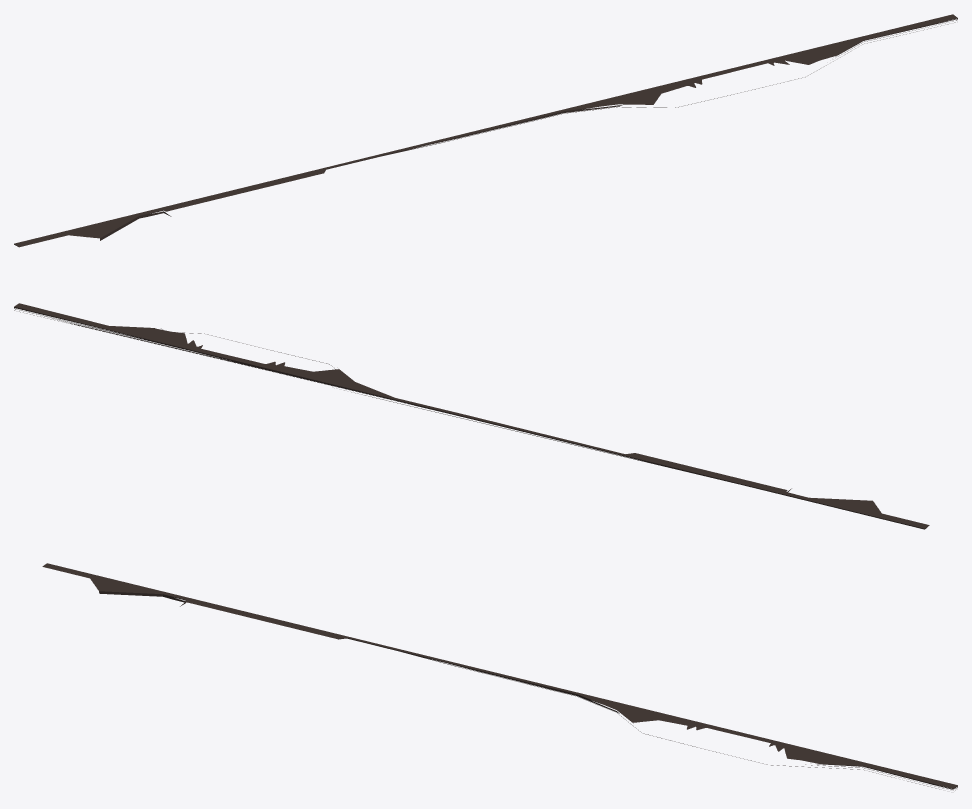
The model's file is upper land.FBX.
3 views of the same model, one above another, from view 1: azimuth 30°, elevation 25°; view 2: azimuth 150°, elevation 25°; view 3: azimuth 330°, elevation 25° (orthographic). The views are drawn at different scales.
Visible parts, largest first — view 1: Shape1; view 2: Shape1; view 3: Shape1.
Part boxes in pixels (<box>): Shape1: <box>14,14,957,247</box>; Shape1: <box>14,303,929,529</box>; Shape1: <box>42,563,957,790</box>.
Size of the model in its own units: 159 by 1 by 9.98.
